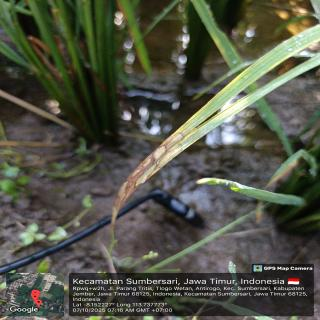Blast: (133, 161, 158, 187), (159, 145, 183, 167), (134, 157, 153, 177), (166, 133, 184, 150), (118, 180, 131, 201), (153, 144, 168, 160)
